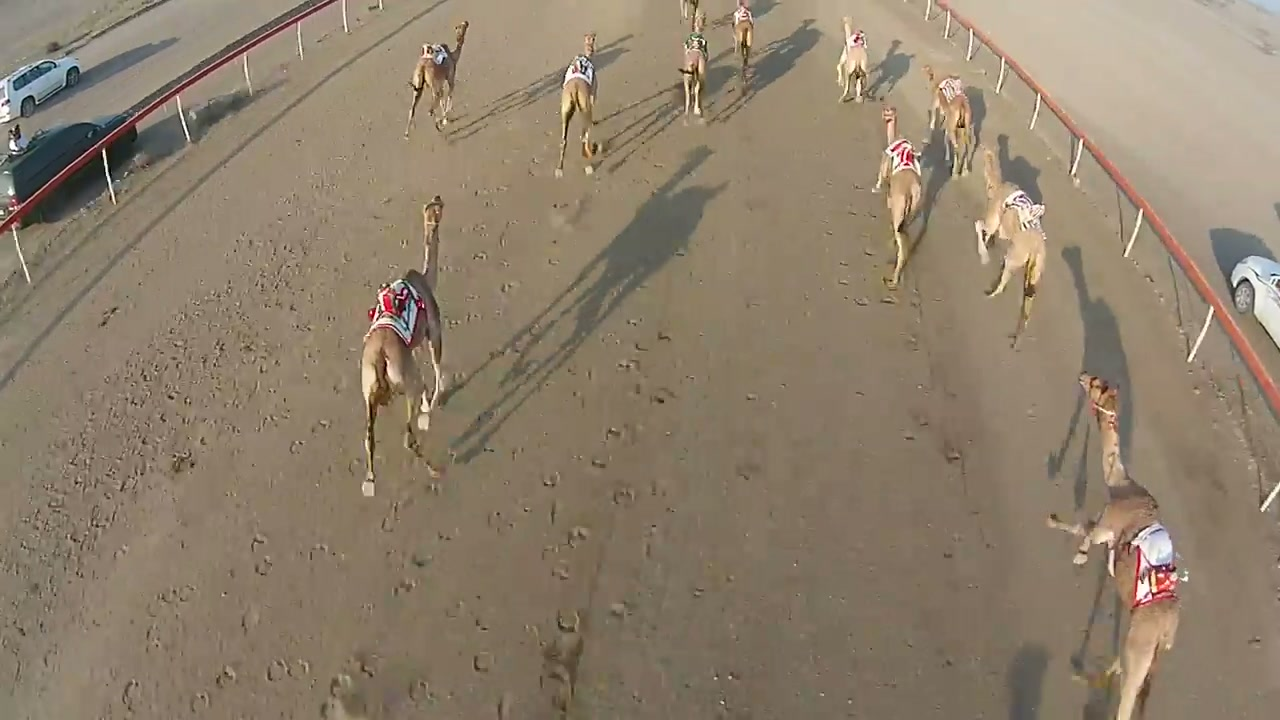animal_foot_print: (437, 277, 680, 693), (212, 529, 428, 688)
